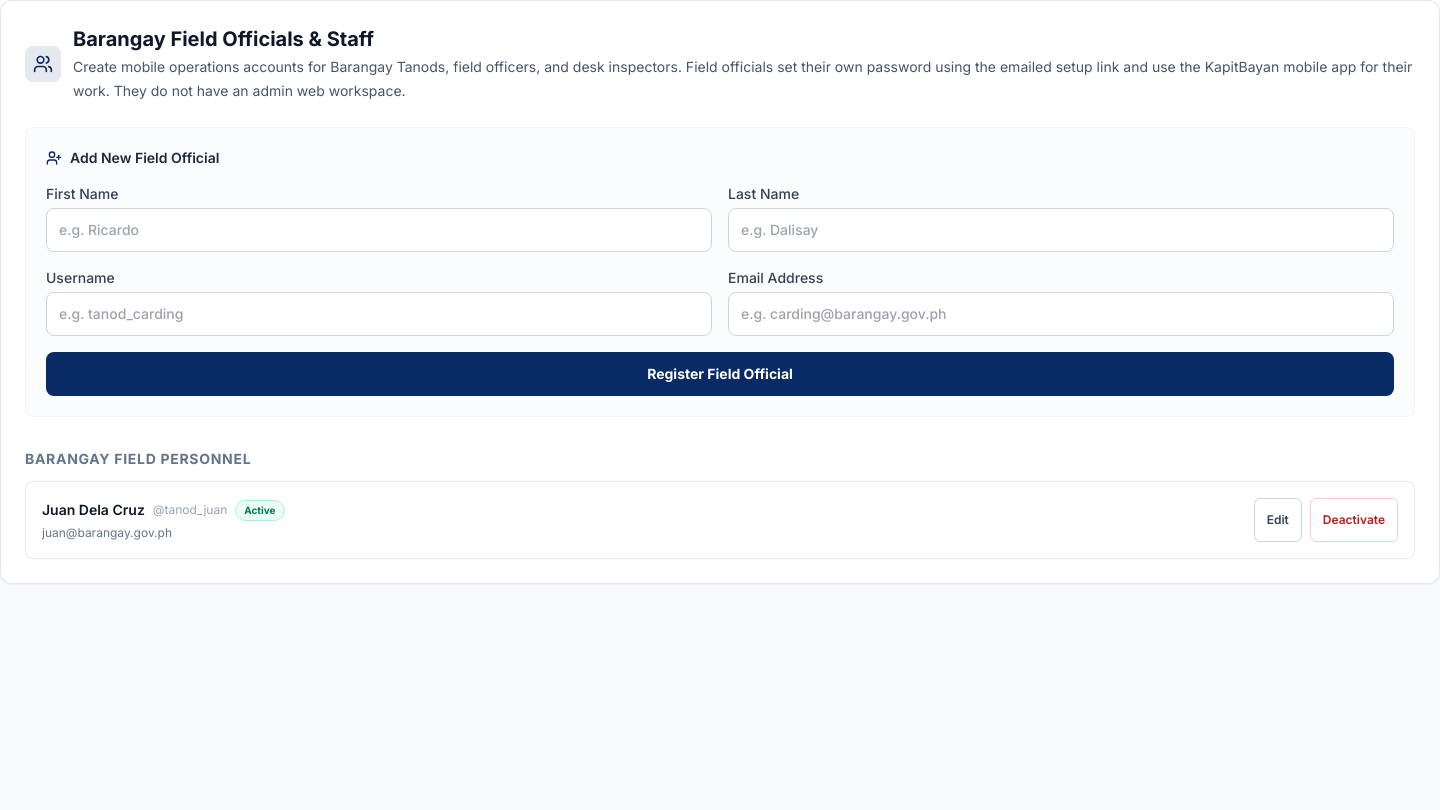
Test case: StaffManagementSettings › edits allowed profile fields and updates the displayed row from the response
Expected: the heading "Juan Dela Cruz" is shown, [42, 500, 145, 520]
Click the button with aria-label "Edit Juan Dela Cruz" at (1278, 520), box [1254, 498, 1302, 542]
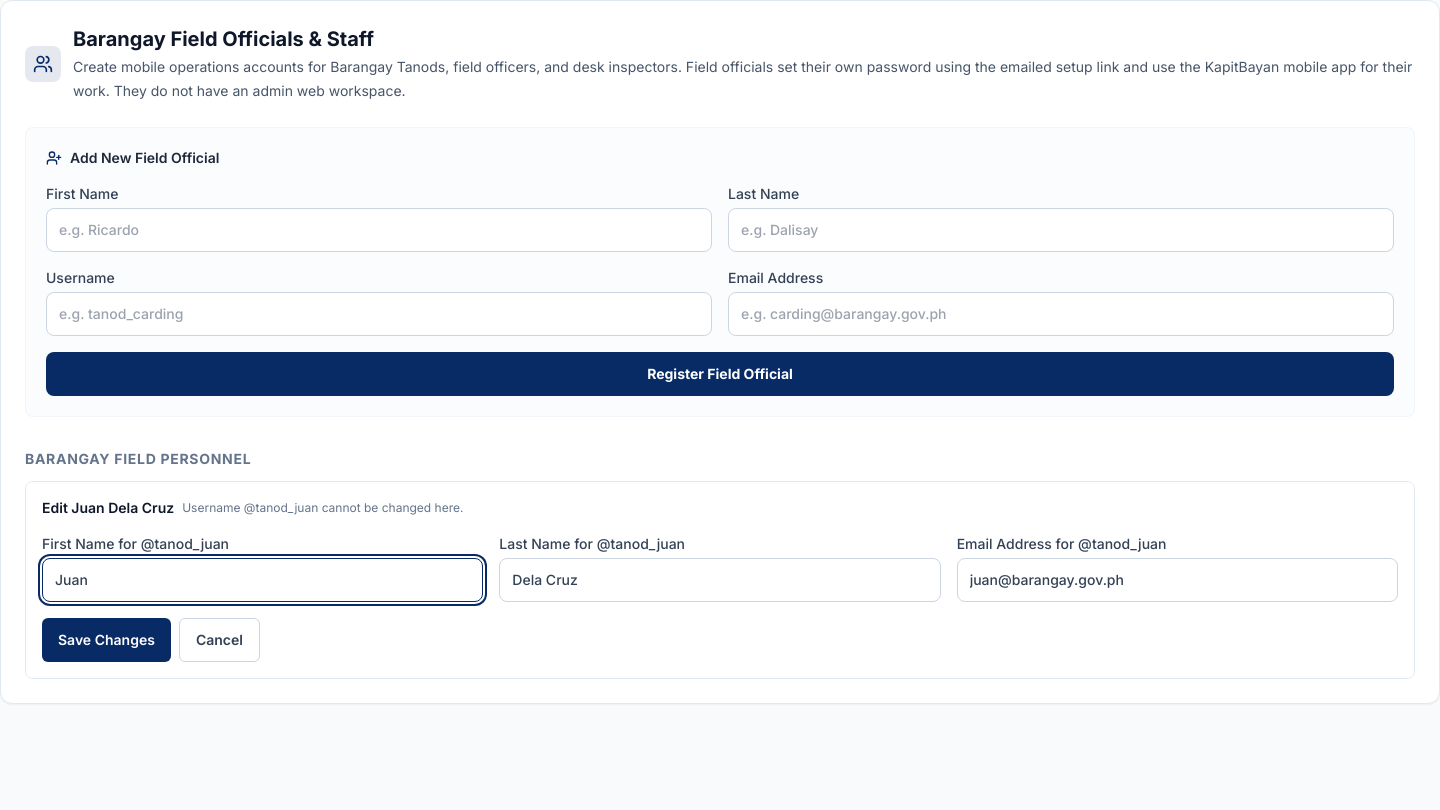
Replace the text in the field labelled "First Name for @tanod_juan" with "Juan Miguel" at (263, 580), box [42, 558, 483, 602]
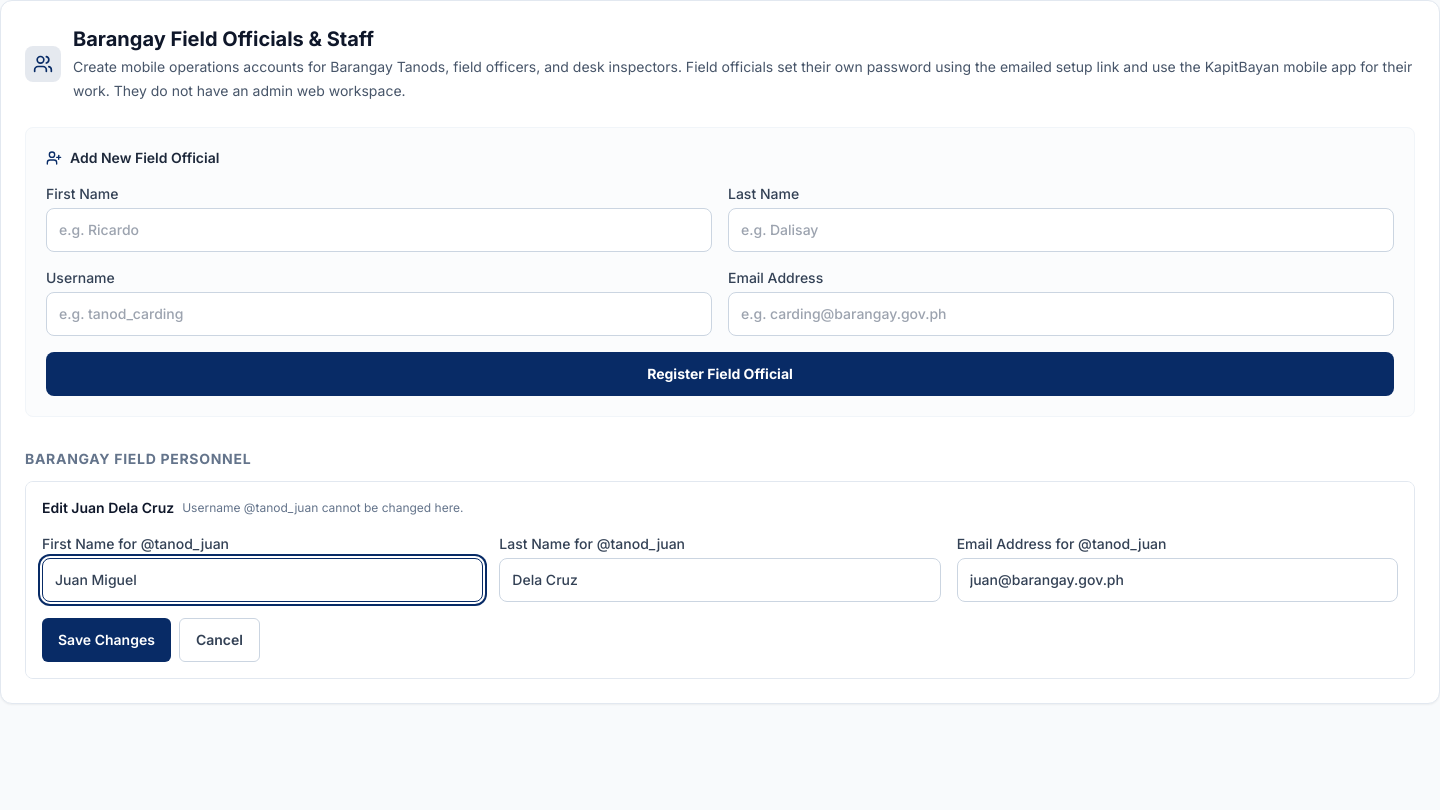
Replace the text in the field labelled "Email Address for @tanod_juan" with "JUAN.NEW@BARANGAY.GOV.PH" at (1177, 580), box [957, 558, 1398, 602]
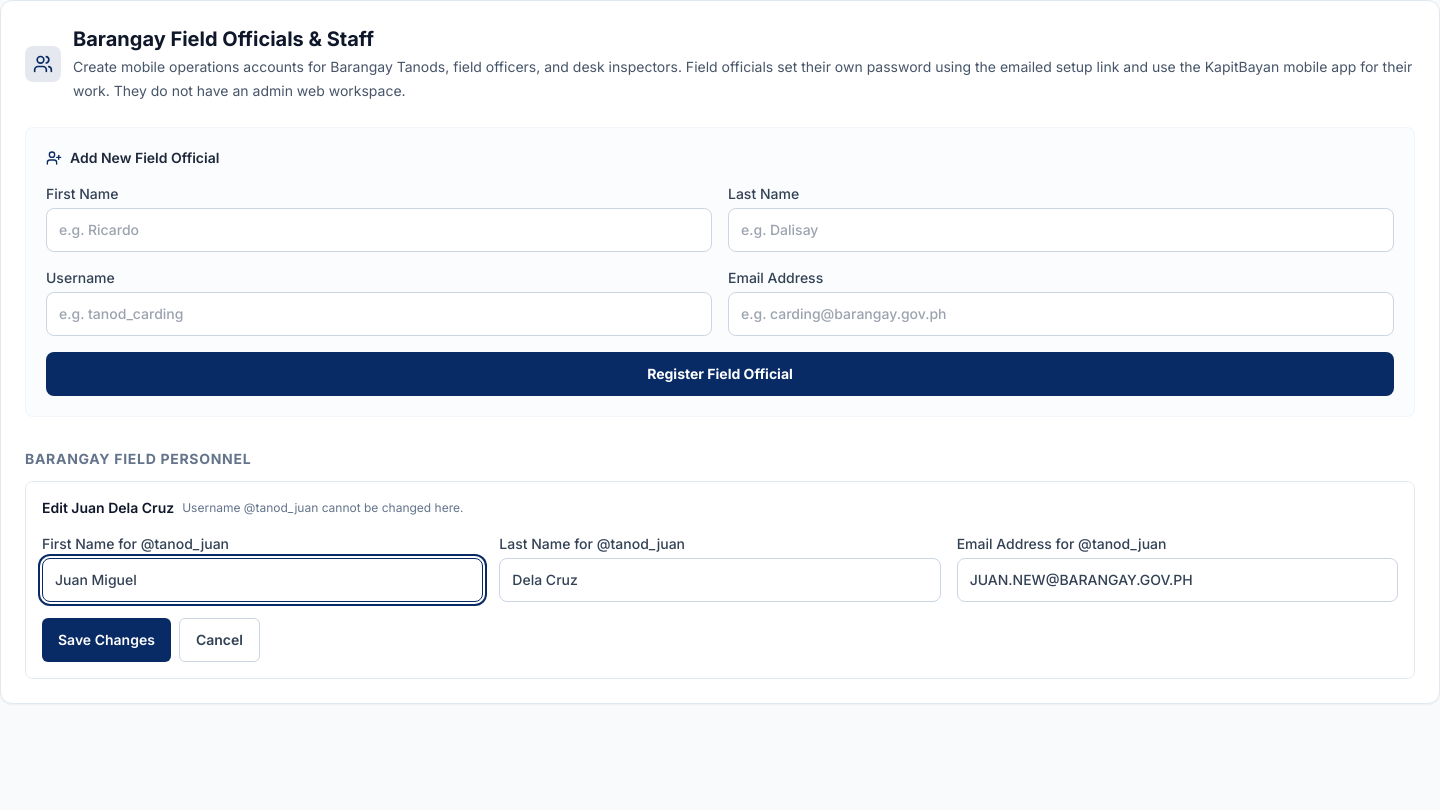
Click the button "Save Changes" at (106, 640), box [42, 618, 171, 662]
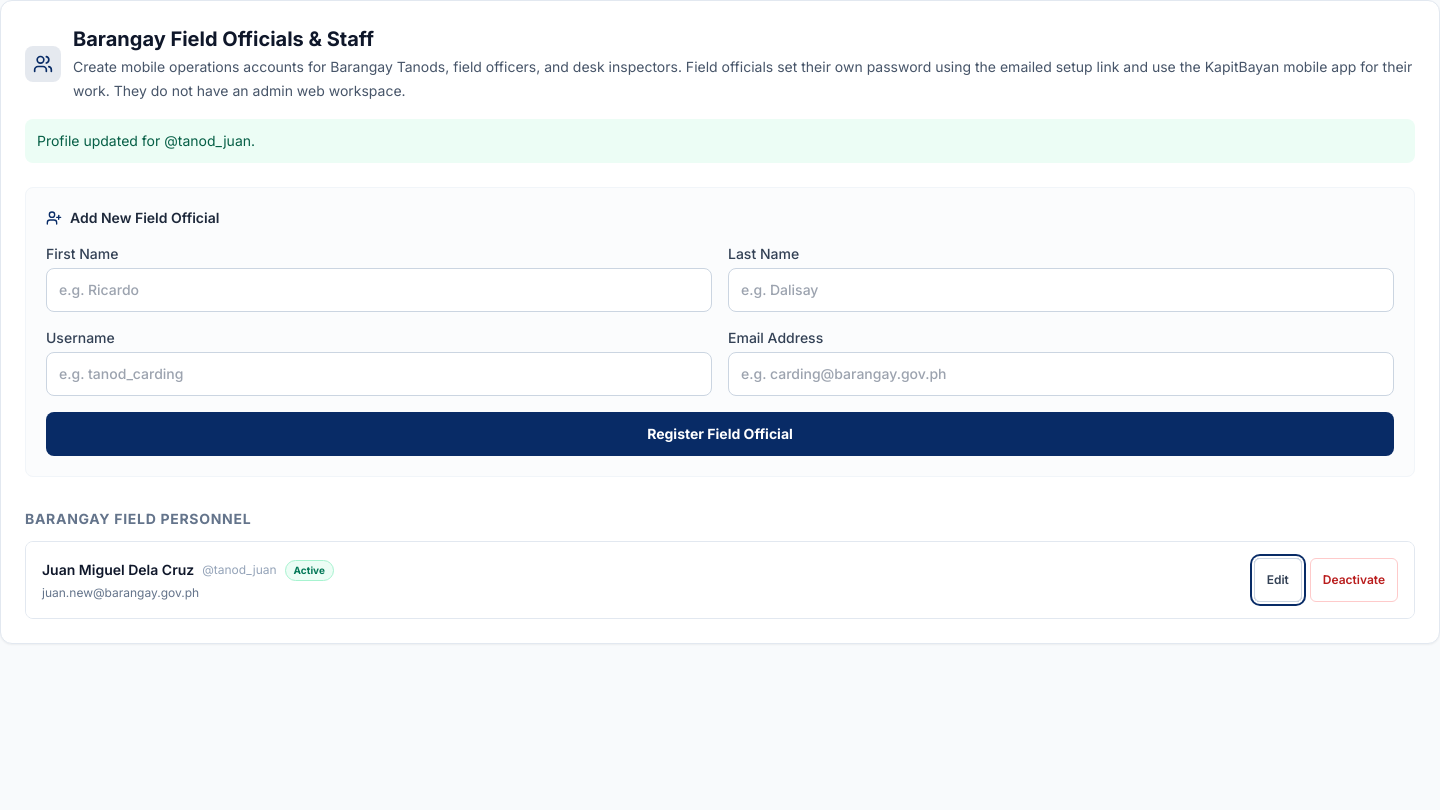
Expected: the heading "Juan Miguel Dela Cruz" is shown, [42, 560, 194, 580]
Expected: the text "juan.new@barangay.gov.ph" is shown, [42, 584, 199, 600]
Expected: the message reads "Profile updated for @tanod_juan.", [37, 132, 255, 149]
